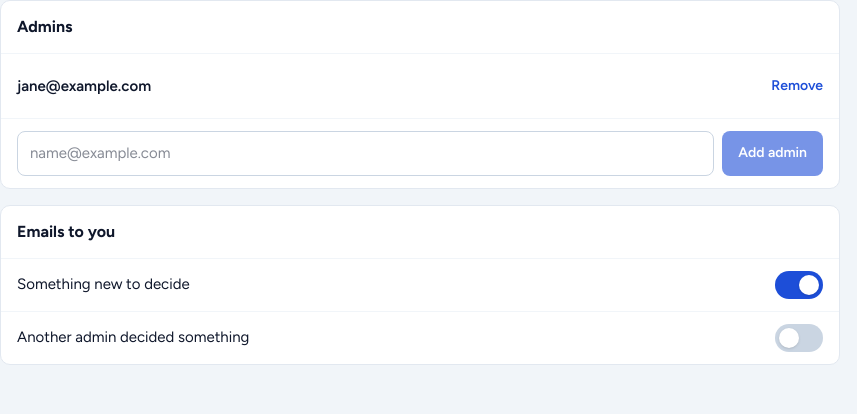
TeamManager › the Another admin decided something switch › goes back and says so when the save fails
Click the switch named "Another admin decided something": (799, 338) [775,324,823,352]
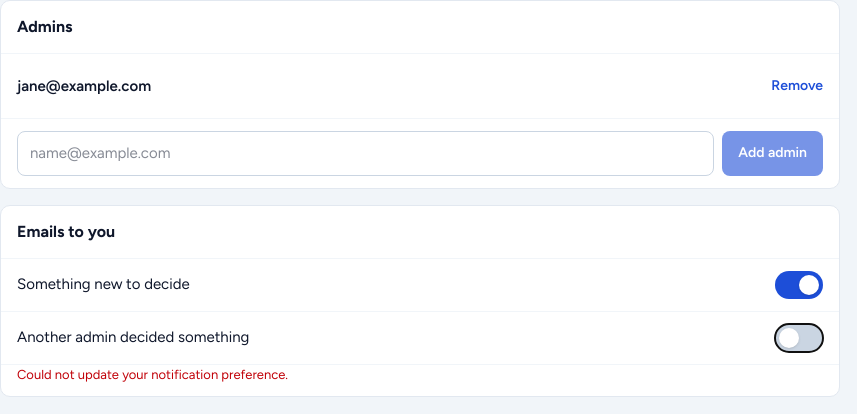
Result: the text "Could not update your notification preference." is shown at [17,366,288,382]
